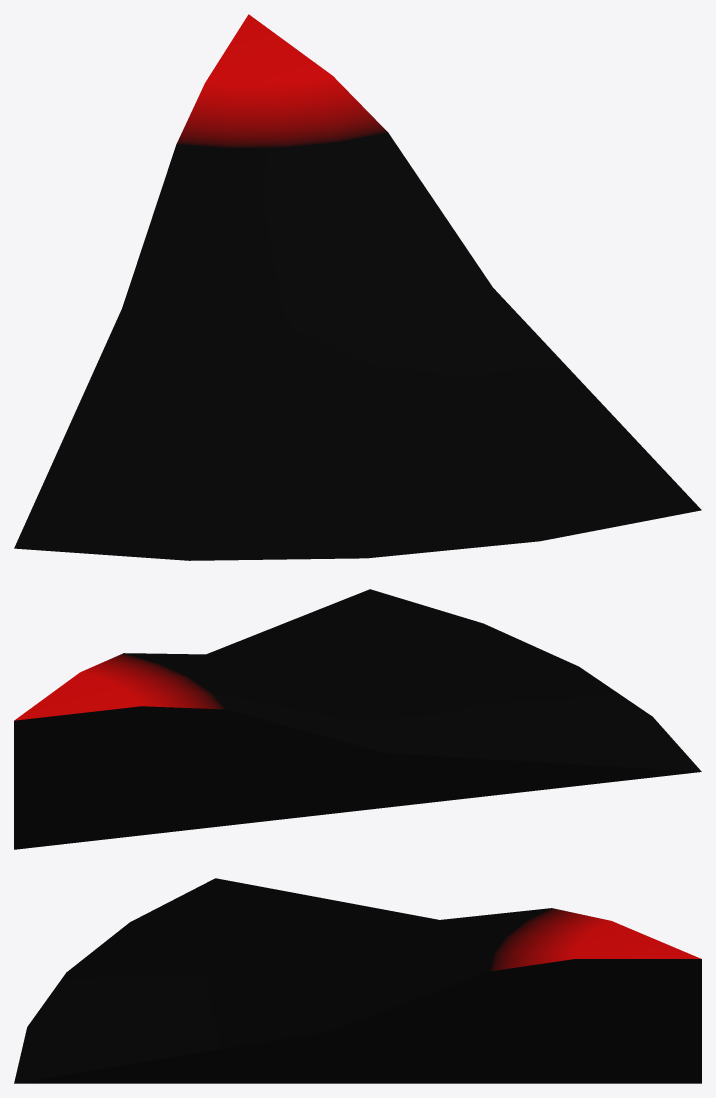
Rendered from PlatformDeclineCornerIn_45Deg.fbx.
The picture shows the model from 3 angles, top to bottom: view 1: azimuth 30°, elevation 25°; view 2: azimuth 150°, elevation 25°; view 3: azimuth 270°, elevation 25°; orthographic projection. The views are drawn at different scales.
Parts seen in each view (by area): view 1: PlatformDeclineCornerIn_45Deg; view 2: PlatformDeclineCornerIn_45Deg; view 3: PlatformDeclineCornerIn_45Deg.
Part boxes in pixels (<box>): PlatformDeclineCornerIn_45Deg: <box>14,14,701,560</box>; PlatformDeclineCornerIn_45Deg: <box>14,589,701,849</box>; PlatformDeclineCornerIn_45Deg: <box>14,878,701,1083</box>.
Bounding box in the file's own units: 3.54 × 1 × 5.
